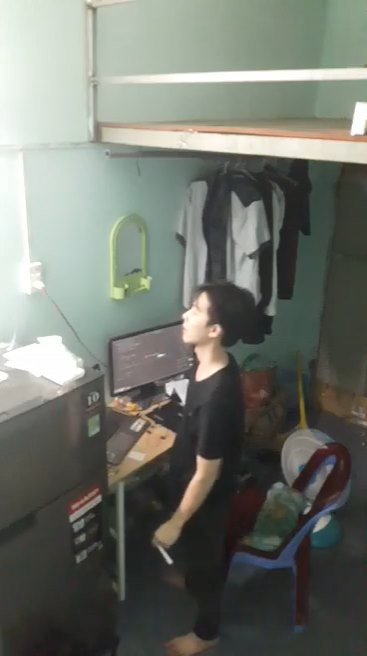cigarette: (155, 523, 179, 568)
person: (148, 275, 268, 656)
